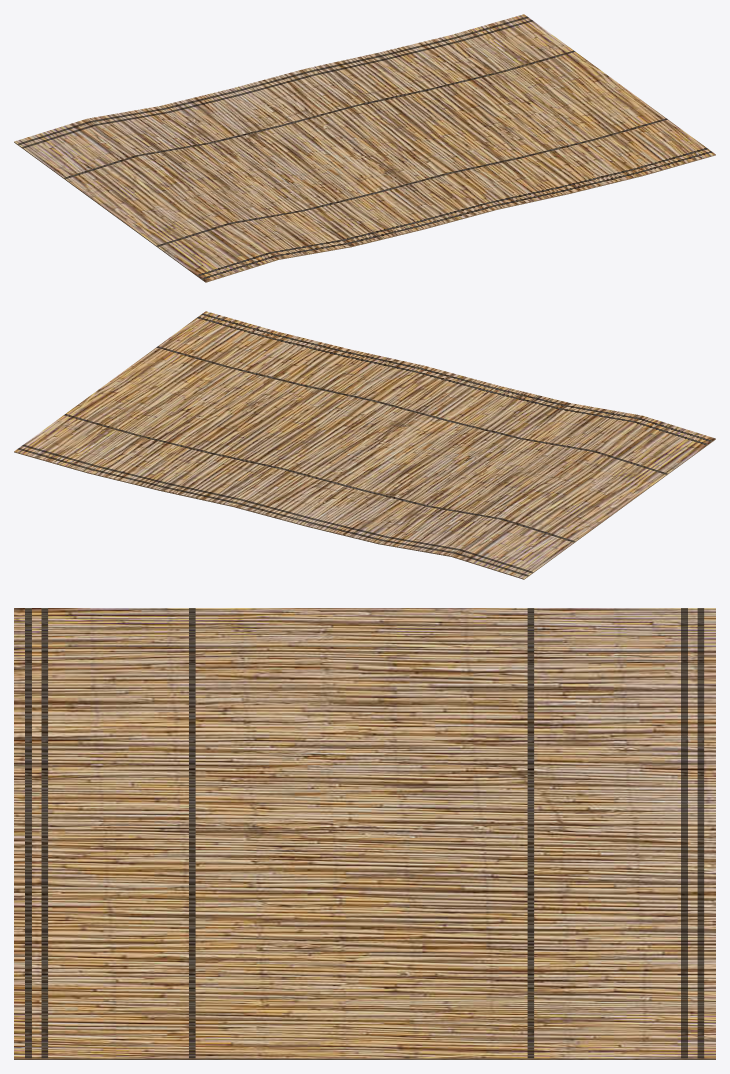
The model's file is Tablecloth.FBX.
3 renders of one model, top to bottom at view 1: azimuth 30°, elevation 25°; view 2: azimuth 150°, elevation 25°; view 3: azimuth 270°, elevation 25°, orthographic. The views are drawn at different scales.
Visible parts, largest first — view 1: tablecloth; view 2: tablecloth; view 3: tablecloth.
Part boxes in pixels (<box>): tablecloth: <box>14,14,715,282</box>; tablecloth: <box>14,311,715,579</box>; tablecloth: <box>14,608,715,1059</box>.
Bounding box in the file's own units: 40.09 × 0.4433 × 26.1.
Materials: 1 (1 with a texture image).
